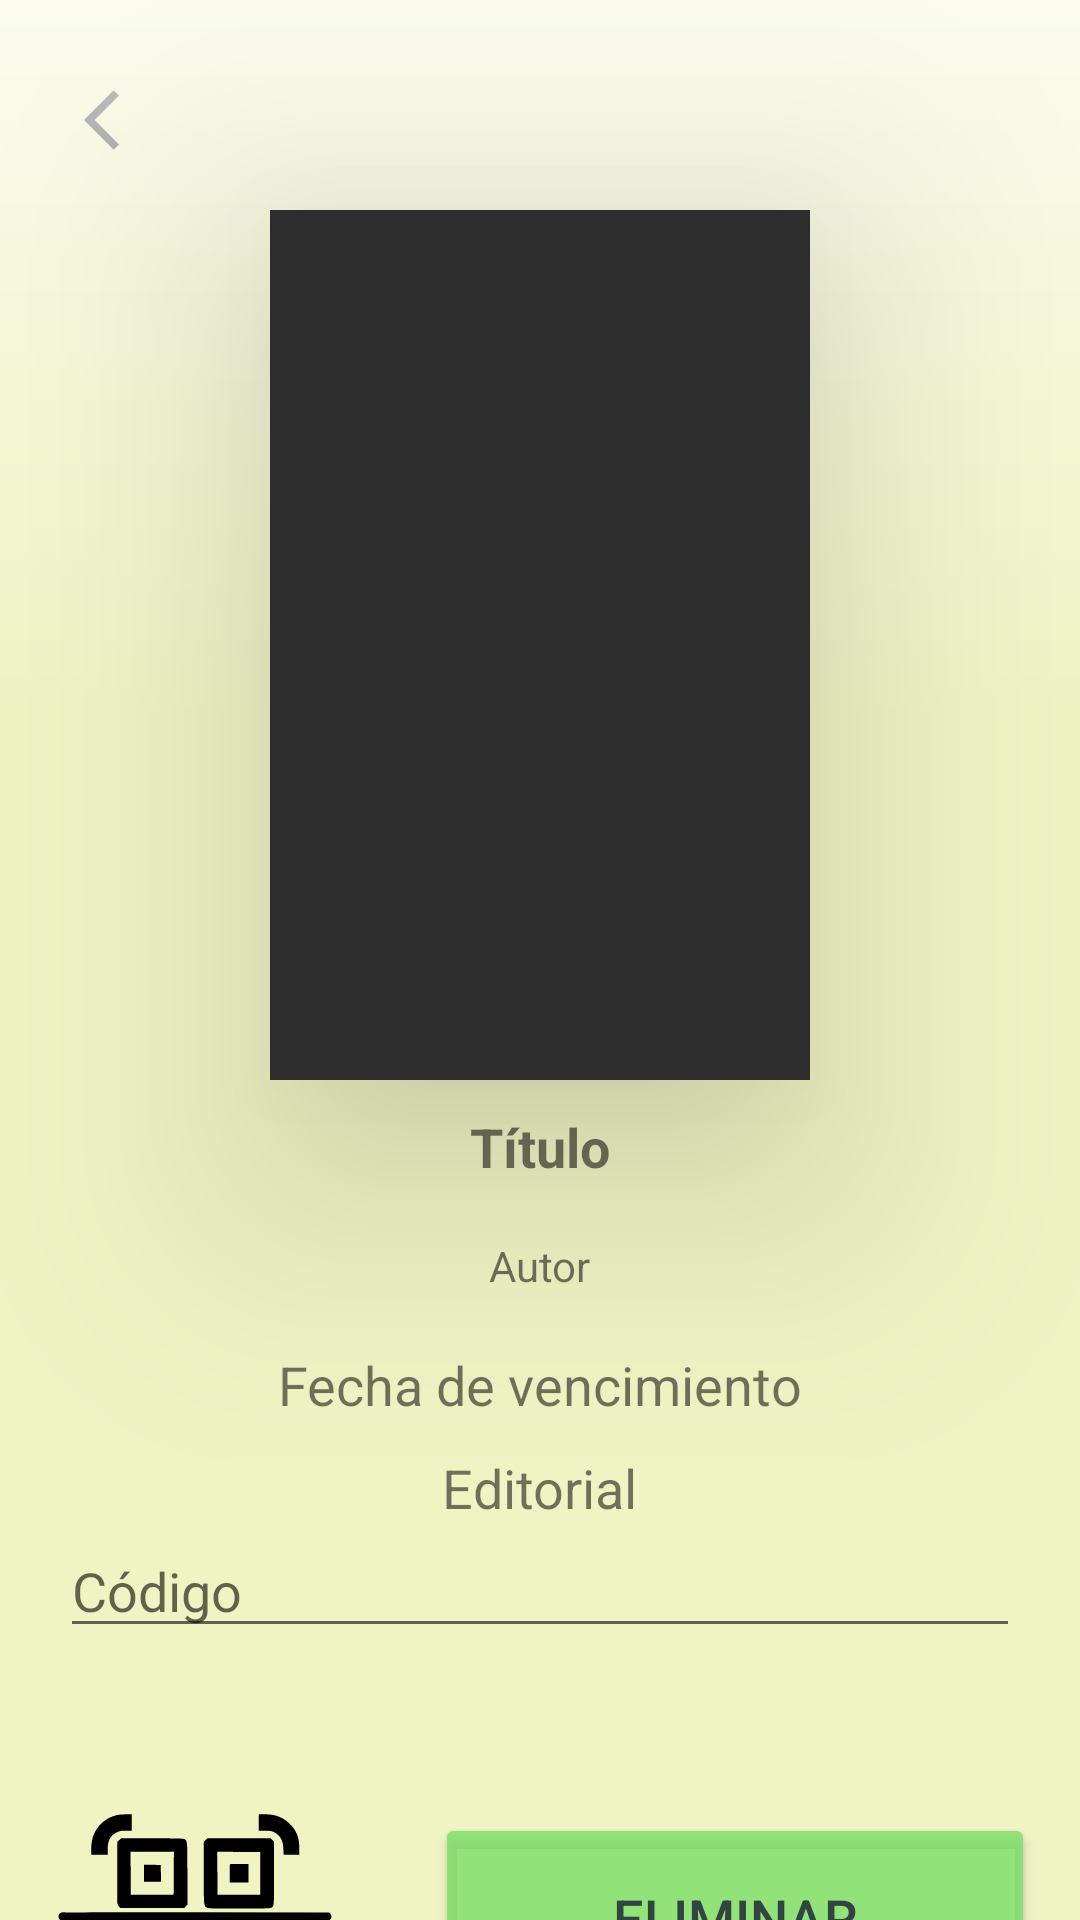

Icon bounding boxes for this 1080px×1920px phone screenshot, format BBox(x1, y1, x2, y2):
arrow: BBox(84, 90, 119, 150)
